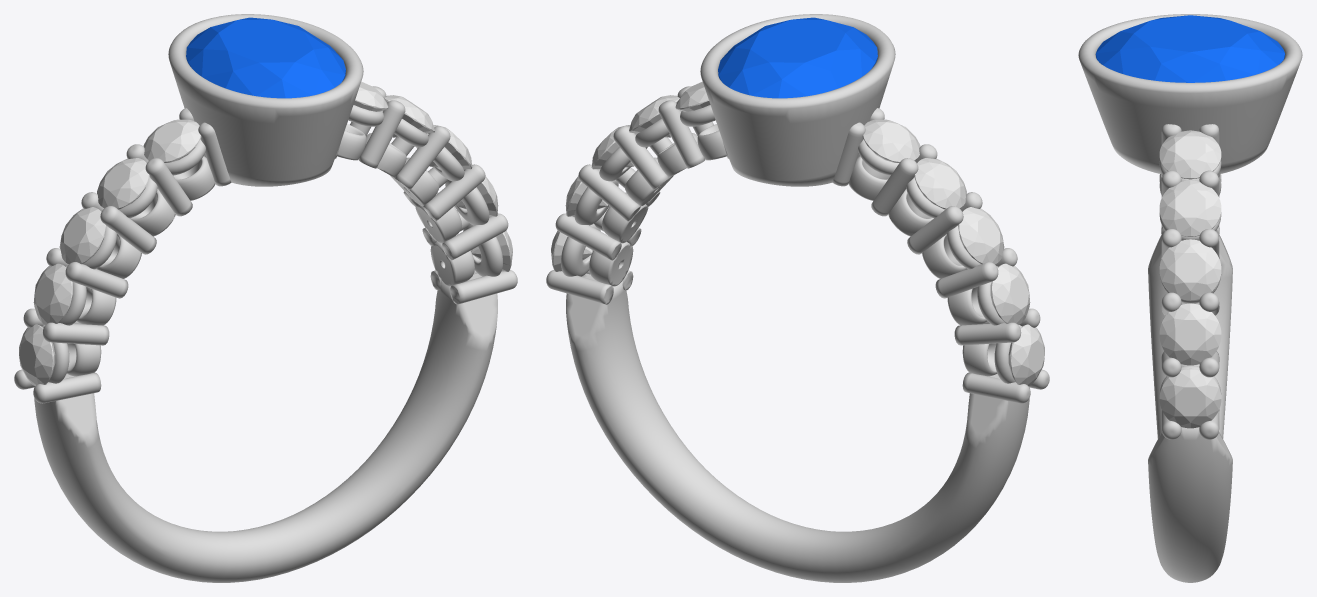
File: bluesapphire-oval-platinum-bezelset-taperedband-11stone.glb
3 views of the same model, side by side, from view 1: azimuth 30°, elevation 25°; view 2: azimuth 150°, elevation 25°; view 3: azimuth 270°, elevation 25° (orthographic).
Visible parts, largest first — view 1: metal, stone.002, side.022, side.023, side.024, side.021, side.020, side.028, side.029; view 2: metal, stone.002, side.022, side.023, side.024, side.021, side.020, side.028, side.029; view 3: metal, stone.002, side.026, side.027, side.025, side.028, side.029.
Part boxes in pixels (box(x1,y1,x2,y2)): metal: box(14, 14, 517, 582); stone.002: box(186, 17, 345, 98); side.022: box(59, 207, 105, 264); side.023: box(97, 158, 149, 209); side.024: box(143, 119, 201, 162); side.021: box(33, 263, 73, 324); side.020: box(19, 324, 55, 386); side.028: box(384, 95, 434, 137); side.029: box(349, 81, 388, 120); metal: box(546, 14, 1049, 582); stone.002: box(718, 17, 877, 98); side.022: box(958, 207, 1004, 264); side.023: box(914, 158, 966, 209); side.024: box(862, 119, 920, 162); side.021: box(990, 263, 1030, 324); side.020: box(1008, 324, 1044, 386); side.028: box(629, 95, 679, 137); side.029: box(675, 81, 714, 120); metal: box(1078, 14, 1302, 582); stone.002: box(1095, 15, 1285, 82); side.026: box(1159, 303, 1221, 365); side.027: box(1159, 239, 1221, 300); side.025: box(1159, 368, 1221, 428); side.028: box(1159, 180, 1221, 236); side.029: box(1159, 130, 1221, 179).
Bounding box in the file's own units: 22.05 × 23.4 × 9.04.
